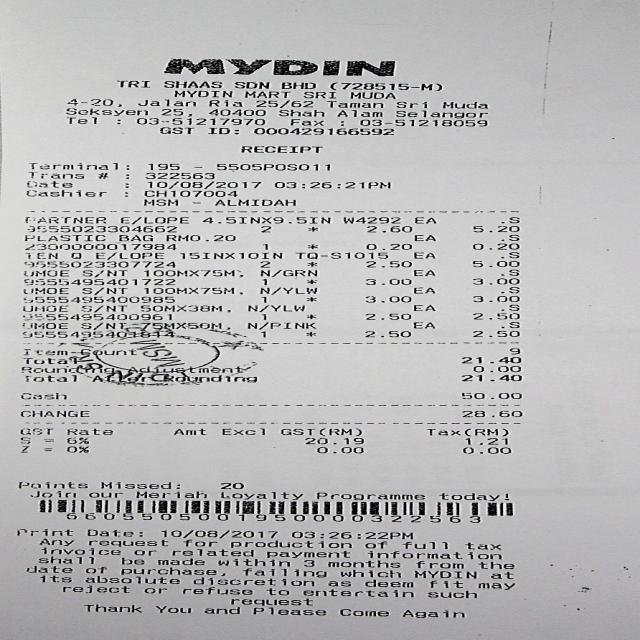text: (163, 58, 394, 76), (65, 513, 479, 522), (192, 577, 314, 586), (366, 551, 501, 559), (23, 243, 175, 250), (22, 296, 174, 303), (79, 322, 228, 329), (350, 501, 423, 515), (136, 117, 263, 125), (328, 82, 440, 91), (290, 532, 412, 540), (230, 540, 350, 548), (160, 530, 276, 538), (120, 567, 223, 576), (146, 181, 260, 189), (21, 331, 173, 337), (23, 261, 174, 267), (23, 279, 174, 285), (25, 226, 175, 232), (21, 314, 170, 320), (359, 119, 486, 126), (302, 589, 412, 597), (315, 492, 423, 500), (253, 128, 393, 134), (27, 162, 128, 170), (127, 366, 242, 373), (216, 164, 329, 171), (202, 217, 329, 223), (242, 568, 326, 577), (84, 576, 178, 584), (395, 110, 487, 118), (274, 182, 390, 188), (144, 270, 242, 277), (144, 287, 241, 294), (161, 375, 257, 382), (266, 550, 350, 558), (230, 598, 312, 606), (144, 190, 237, 197), (65, 108, 146, 116), (295, 252, 387, 259), (21, 366, 113, 373), (139, 305, 230, 312), (88, 539, 167, 547), (178, 252, 281, 258), (252, 607, 326, 615), (327, 560, 399, 568), (280, 428, 362, 435), (426, 429, 508, 436), (220, 492, 302, 499), (170, 549, 252, 556), (438, 493, 508, 501), (100, 482, 178, 489), (95, 252, 163, 260), (63, 585, 129, 593), (217, 559, 289, 566), (402, 610, 464, 618), (240, 146, 322, 152), (24, 217, 106, 223), (182, 587, 252, 594), (339, 570, 400, 578), (214, 200, 295, 206), (136, 491, 205, 498), (24, 190, 104, 196), (24, 235, 104, 241), (145, 172, 213, 179), (247, 322, 315, 329), (41, 548, 120, 554), (120, 217, 187, 224), (84, 604, 142, 612), (255, 100, 312, 108), (37, 556, 93, 564), (66, 98, 121, 106), (461, 410, 521, 417), (414, 571, 474, 578), (165, 235, 234, 241), (18, 482, 87, 488), (162, 81, 221, 88), (303, 437, 362, 444), (426, 590, 476, 598), (325, 101, 382, 108), (208, 109, 265, 116), (259, 270, 316, 277), (259, 287, 316, 294), (15, 529, 72, 536), (248, 305, 304, 312), (80, 348, 136, 355), (462, 446, 511, 454), (22, 357, 77, 364), (86, 529, 141, 536), (364, 580, 412, 588), (26, 565, 72, 573), (460, 357, 520, 363), (461, 375, 521, 381), (461, 393, 521, 399), (401, 541, 446, 549), (173, 91, 231, 97), (136, 100, 194, 106), (342, 217, 400, 223), (91, 375, 149, 381), (19, 411, 88, 416), (339, 609, 388, 616), (415, 561, 463, 568), (471, 260, 518, 267), (157, 558, 204, 565), (243, 91, 289, 98), (336, 110, 382, 117), (80, 305, 126, 312), (27, 180, 72, 187), (366, 243, 411, 250), (82, 270, 127, 277), (221, 428, 265, 435), (34, 172, 84, 178), (24, 375, 74, 381), (464, 542, 501, 550), (477, 582, 514, 590), (472, 366, 520, 372), (477, 561, 513, 569), (203, 606, 239, 614), (465, 438, 506, 445), (471, 243, 518, 249), (471, 278, 518, 284), (363, 278, 410, 284), (471, 296, 518, 302), (471, 313, 518, 319), (20, 322, 67, 328), (316, 447, 363, 453), (38, 538, 73, 546), (181, 539, 216, 547), (441, 102, 487, 108), (278, 110, 324, 116), (473, 226, 519, 232), (22, 270, 68, 276), (22, 288, 68, 294), (364, 296, 410, 302), (66, 428, 112, 434), (30, 491, 76, 497), (428, 580, 462, 588), (350, 92, 395, 98), (366, 261, 411, 267), (82, 288, 127, 294), (364, 314, 409, 320), (364, 331, 409, 337), (22, 349, 67, 355), (20, 393, 65, 399), (116, 80, 149, 88), (366, 226, 410, 232), (22, 306, 66, 312), (153, 606, 190, 613), (158, 127, 193, 134), (281, 82, 315, 89), (471, 331, 518, 336), (394, 101, 426, 108), (147, 163, 179, 170), (160, 109, 191, 116), (66, 117, 96, 124), (208, 127, 238, 134), (234, 82, 268, 88), (302, 92, 336, 98), (207, 100, 241, 106), (118, 235, 152, 241), (172, 428, 206, 434), (143, 200, 176, 206), (19, 428, 52, 434), (24, 252, 56, 258), (38, 576, 70, 582), (290, 119, 321, 125), (88, 492, 122, 497), (219, 482, 243, 489), (266, 588, 288, 595), (498, 321, 518, 328), (84, 566, 104, 573), (413, 217, 435, 223), (412, 270, 434, 276), (364, 542, 386, 548), (122, 558, 144, 564), (490, 572, 512, 578), (413, 252, 434, 258), (413, 287, 434, 293), (413, 304, 434, 310), (413, 322, 434, 328), (414, 235, 434, 241), (499, 270, 518, 276), (66, 447, 88, 452), (328, 581, 350, 586), (144, 588, 166, 593), (501, 217, 519, 223), (501, 234, 519, 240), (501, 252, 519, 258), (501, 287, 519, 293), (133, 550, 154, 555), (500, 305, 520, 310), (73, 438, 89, 443), (259, 262, 270, 268), (508, 348, 519, 354), (302, 560, 313, 566), (97, 172, 107, 178), (260, 226, 270, 232), (306, 244, 318, 249), (70, 252, 80, 258), (18, 438, 30, 443), (305, 279, 316, 284), (305, 314, 316, 319), (258, 331, 266, 337), (20, 447, 29, 452), (260, 297, 267, 303), (306, 297, 316, 301), (305, 332, 315, 336), (308, 227, 317, 231), (307, 262, 316, 266), (260, 279, 267, 284), (262, 244, 268, 249), (261, 314, 266, 320)
